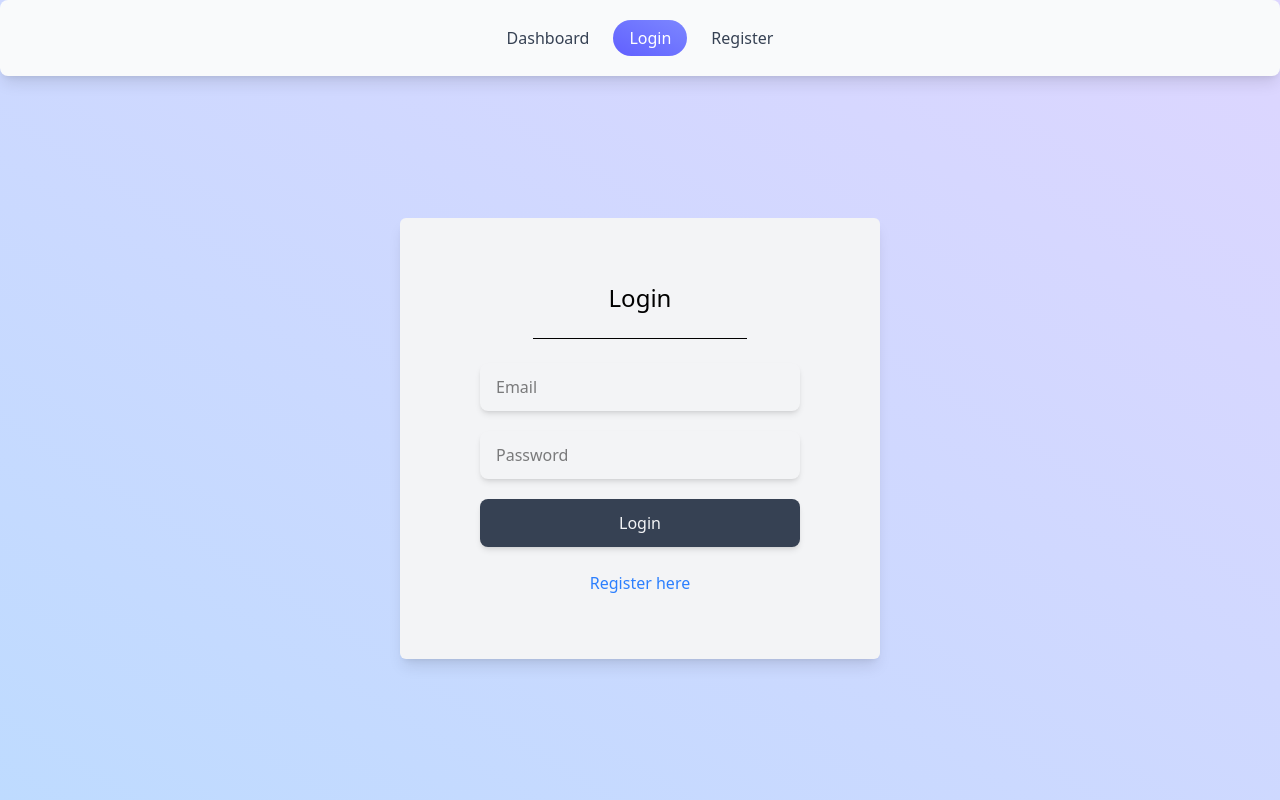
Test: visiting login route › guest attempts to login with invalid credentials
expect the heading "Login" is shown: met, box [608, 280, 671, 314]
Type "test@email.com" into the field with placeholder "Email" at (640, 386), box [480, 362, 800, 410]
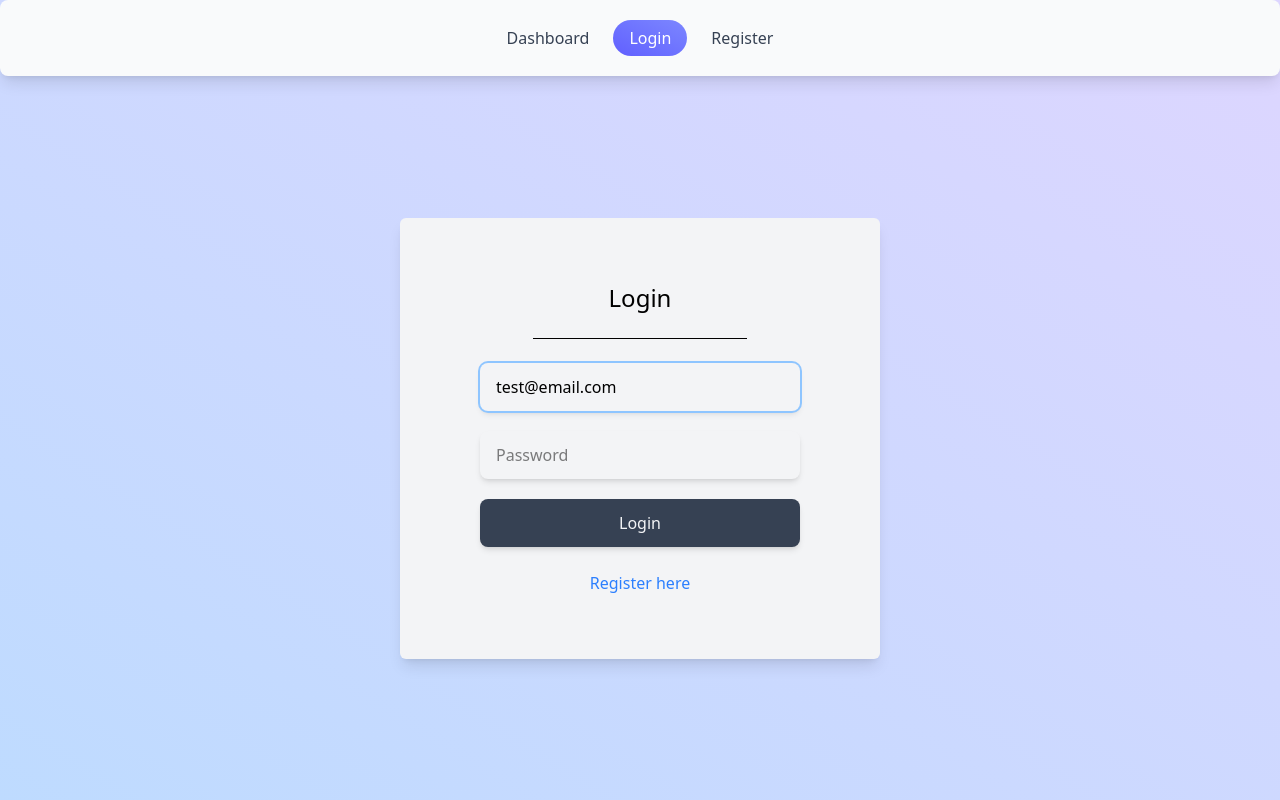
Type "incorrect-password" into the password field with placeholder "Password" at (640, 454), box [480, 430, 800, 478]
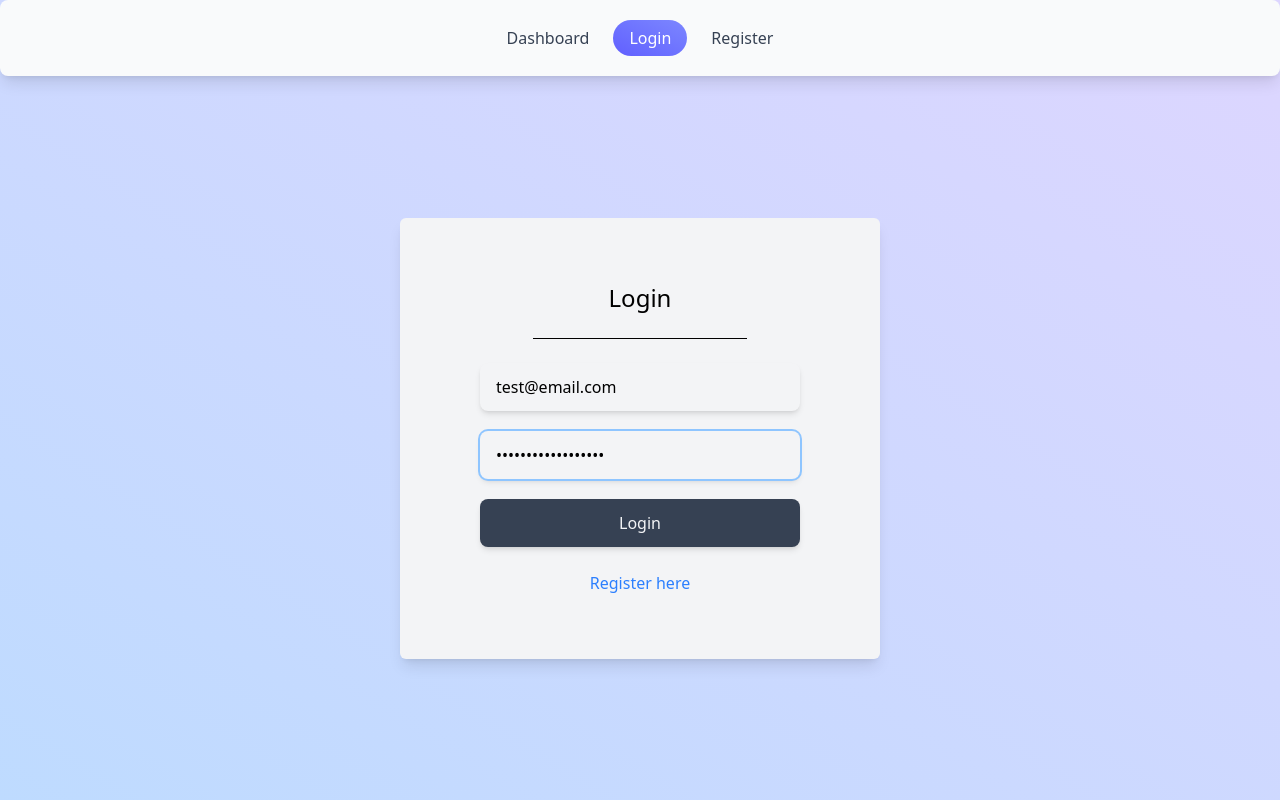
Note: Submit the form
Click the button "Login" at (640, 522), box [480, 498, 800, 546]
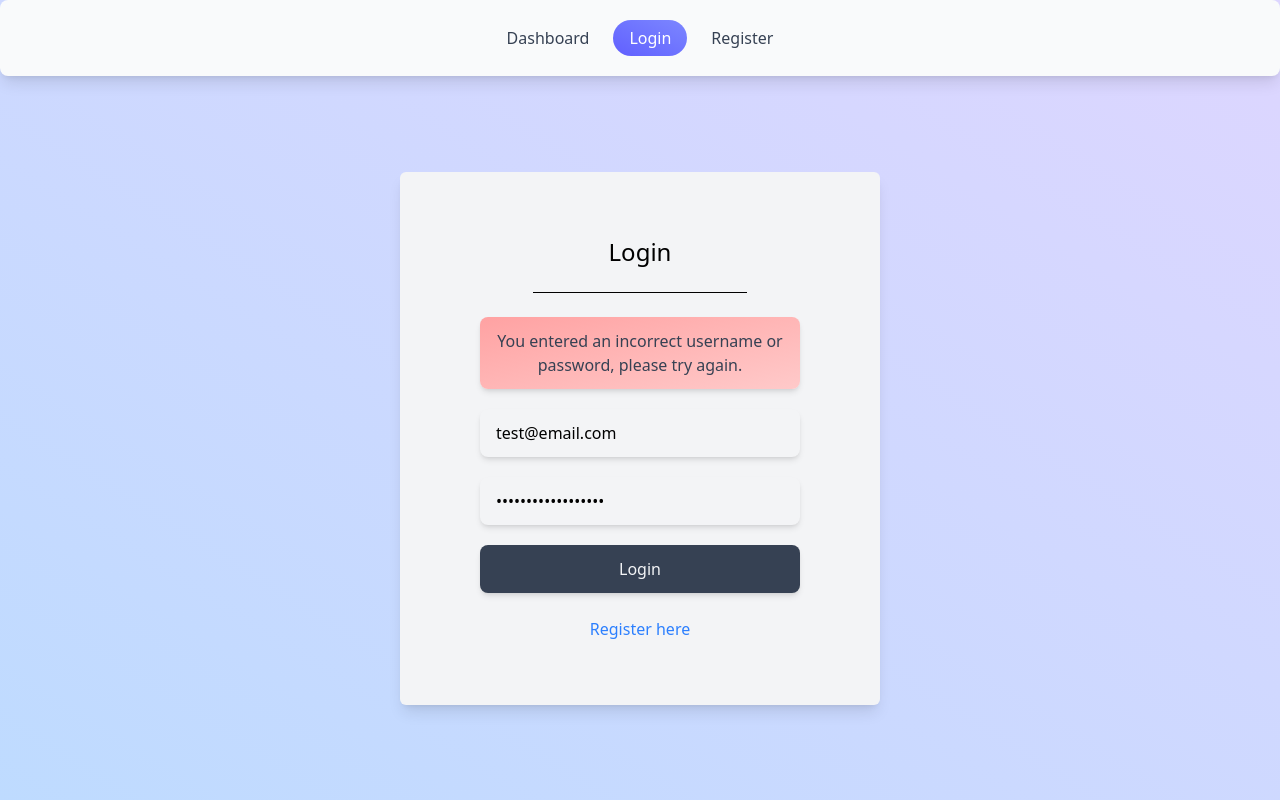
expect the text "You entered an incorrect username or password, please try again." is shown: met, box [480, 316, 800, 388]
